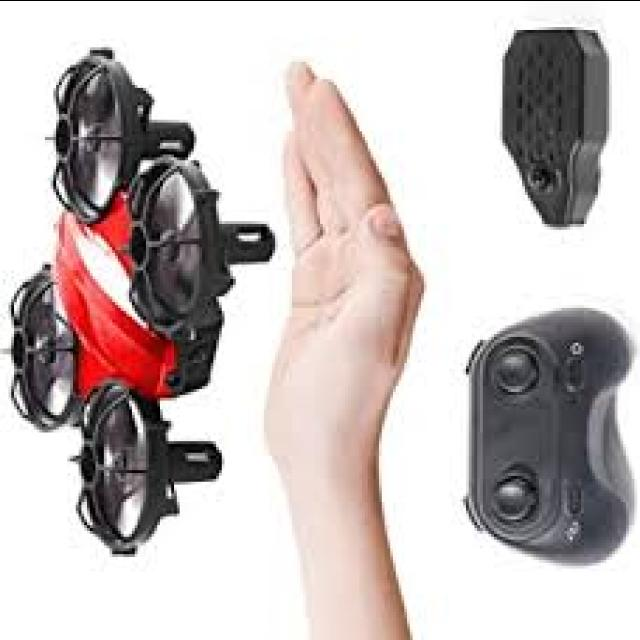drone: (1, 25, 282, 572)
